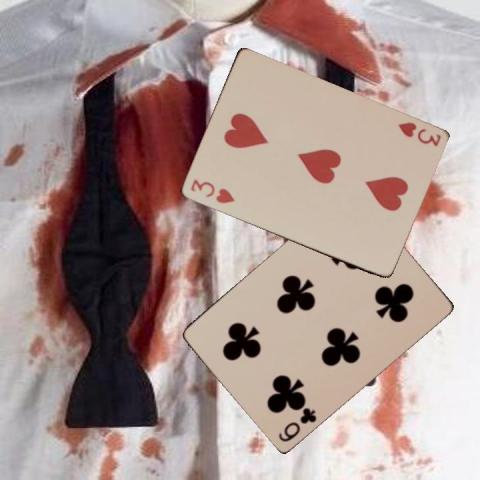3h: (187, 176, 236, 205), (395, 119, 442, 148)
6c: (275, 404, 318, 443)
